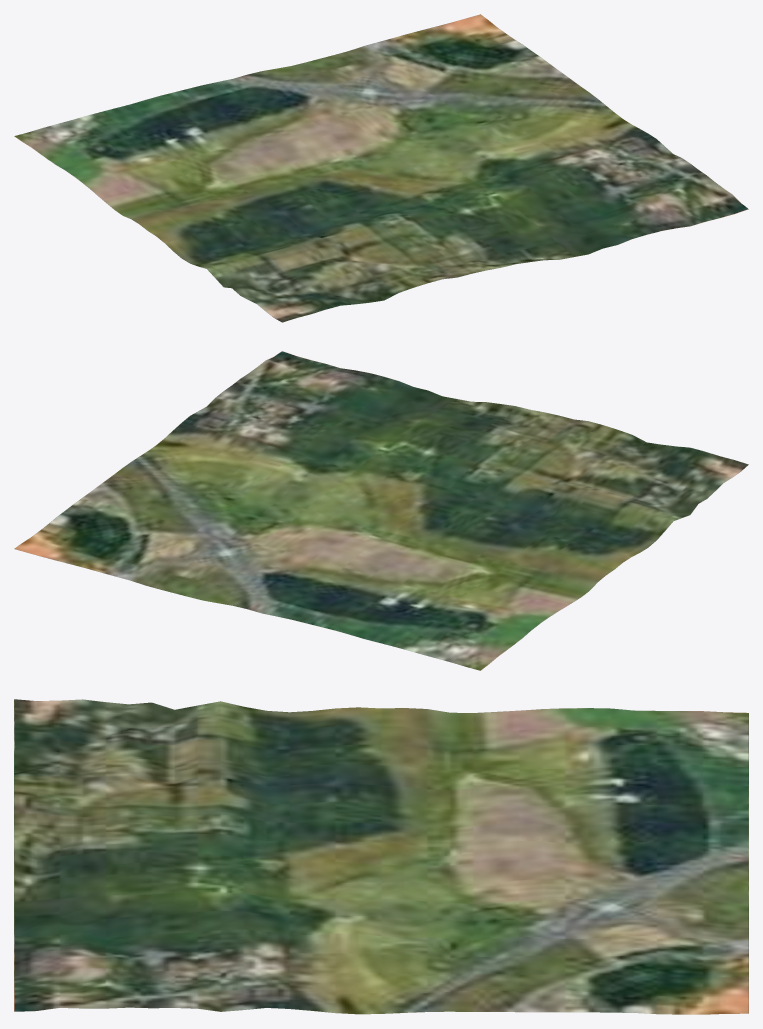
3 views of the same model, one above another, from view 1: azimuth 30°, elevation 25°; view 2: azimuth 150°, elevation 25°; view 3: azimuth 270°, elevation 25° (orthographic). The views are drawn at different scales.
Size of the model in its own units: 1951 by 57.21 by 1943.
Materials: 1 (1 with a texture image).
